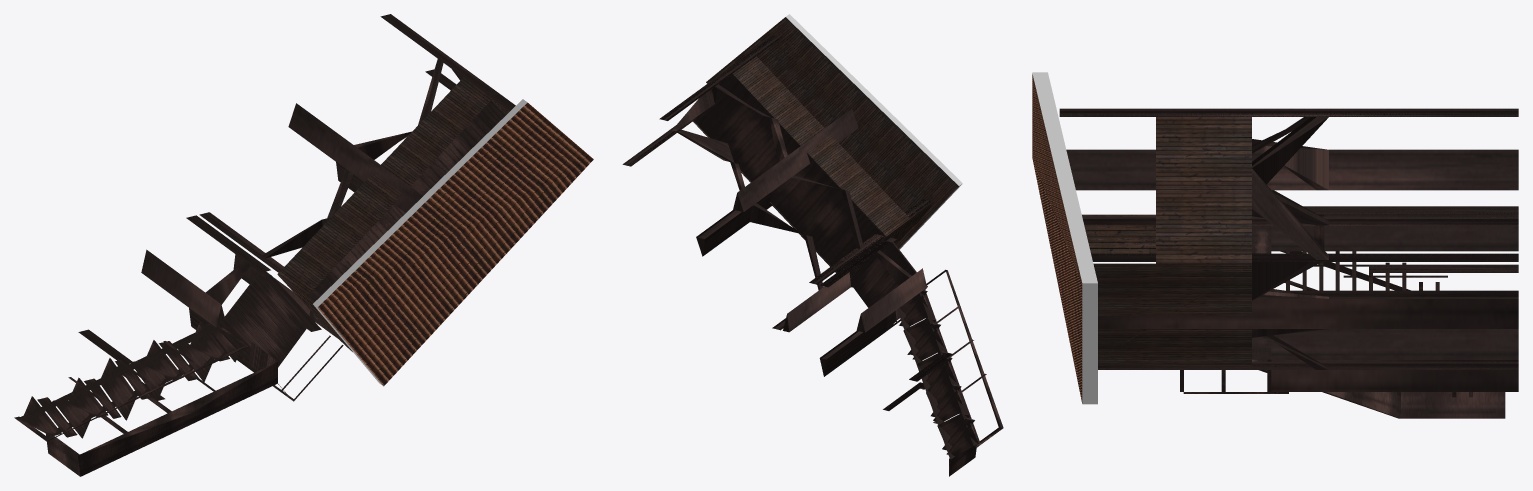
Rendered from Lai_23a_3-origo.obj.
3 renders of one model, left to right at view 1: azimuth 30°, elevation 25°; view 2: azimuth 150°, elevation 25°; view 3: azimuth 270°, elevation 25°, orthographic. The views are drawn at different scales.
Parts seen in each view (by area): view 1: Lai_23a_3; view 2: Lai_23a_3; view 3: Lai_23a_3.
Boxes of the visible parts, x1=… form: Lai_23a_3: x1=14, y1=14, x2=593, y2=476; Lai_23a_3: x1=622, y1=14, x2=1003, y2=476; Lai_23a_3: x1=1032, y1=72, x2=1518, y2=418.
Bounding box in the file's own units: 10.75 × 8.5 × 6.07.
